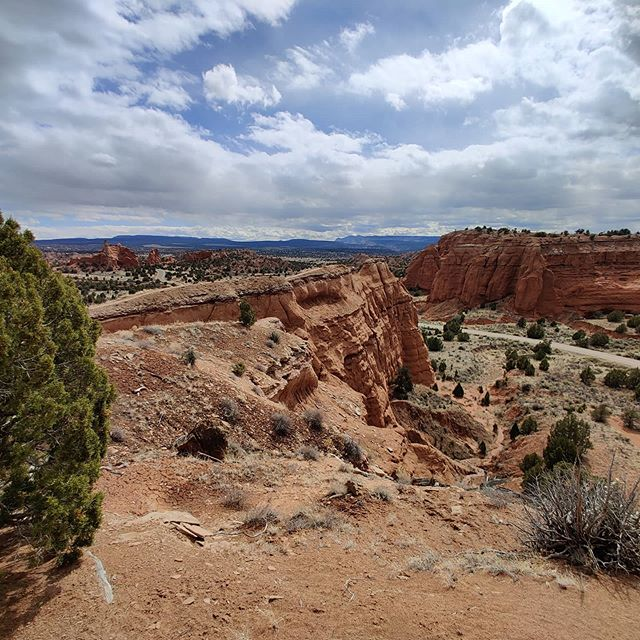sky: (1, 1, 631, 223)
tree: (1, 227, 98, 607)
